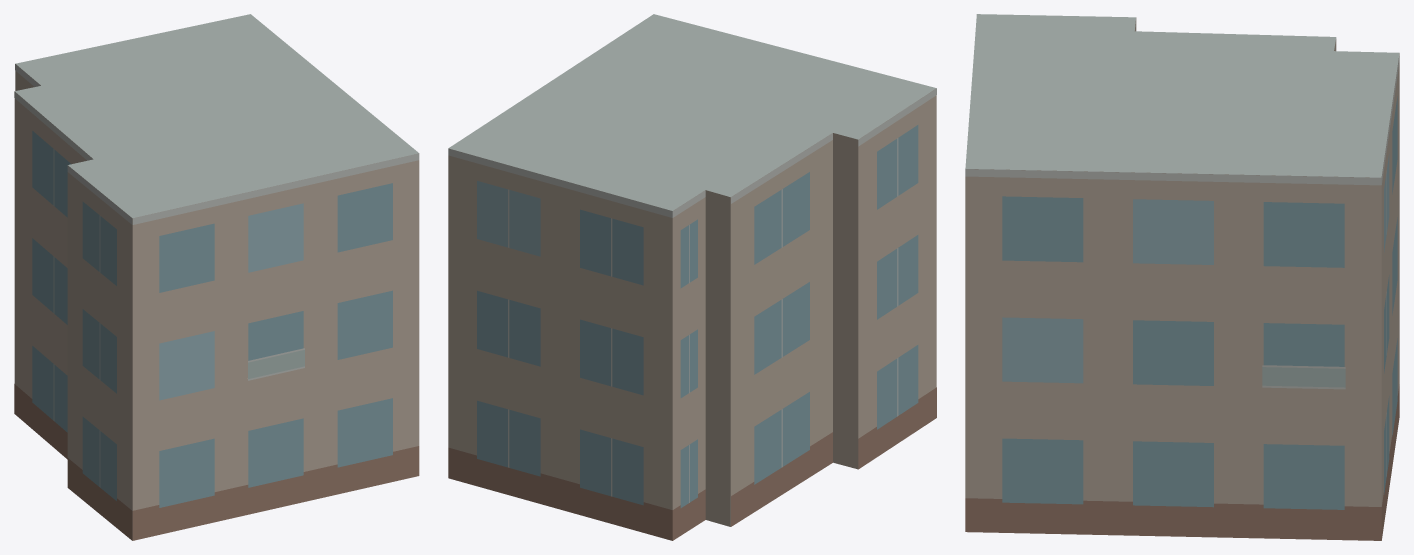
The model's file is survey-upis-32503693.glb.
3 renders of one model, left to right at view 1: azimuth 30°, elevation 25°; view 2: azimuth 150°, elevation 25°; view 3: azimuth 270°, elevation 25°, orthographic. The views are drawn at different scales.
Parts seen in each view (by area): view 1: survey-upis-32503693.tmp; view 2: survey-upis-32503693.tmp; view 3: survey-upis-32503693.tmp.
Part boxes in pixels (x1,y1,x2,y2): survey-upis-32503693.tmp: (14, 14, 419, 540); survey-upis-32503693.tmp: (448, 14, 936, 540); survey-upis-32503693.tmp: (965, 14, 1399, 540).
Size of the model in its own units: 11.13 by 11.5 by 12.47.
